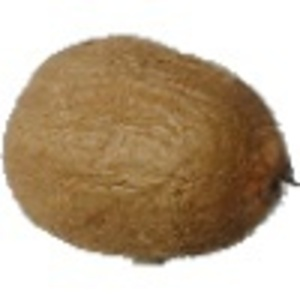kiwi: (1, 33, 298, 272)
